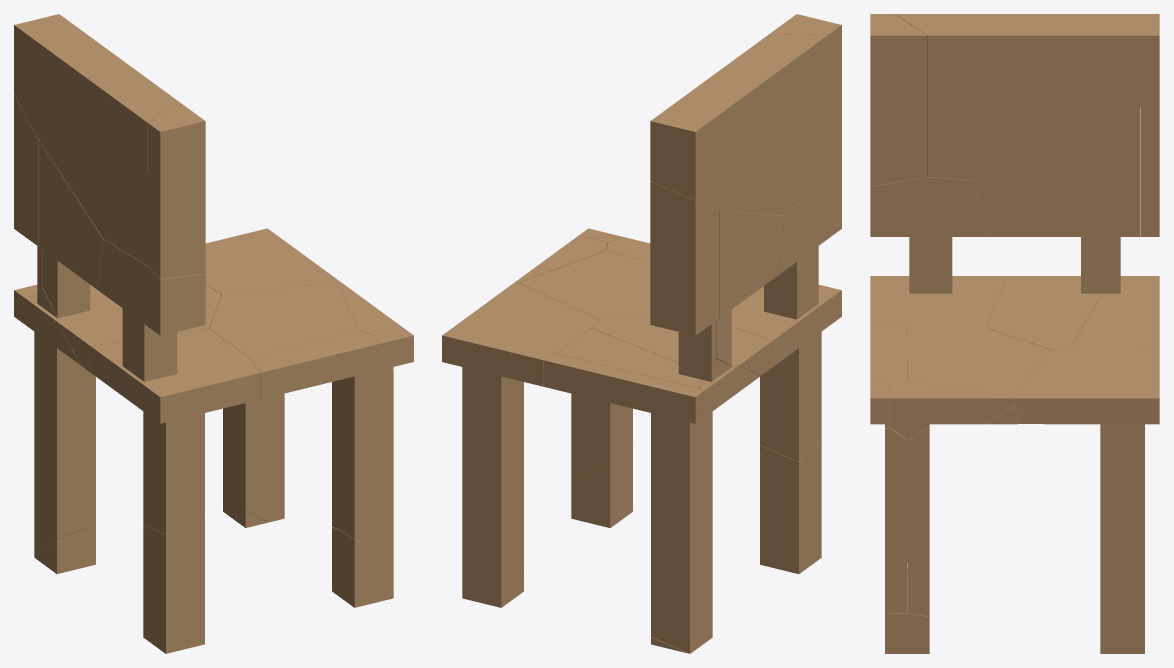
File: Broken Chair.fbx
3 views of the same model, side by side, from view 1: azimuth 30°, elevation 25°; view 2: azimuth 150°, elevation 25°; view 3: azimuth 270°, elevation 25° (orthographic).
Visible parts, largest first — view 1: Chair_cell, Chair_cell.009, Chair_cell.005, Chair_cell.010, Chair_cell.003, Chair_cell.008, Chair_cell.004, Chair_cell.002, Chair_cell.014, Chair_cell.007, Chair_cell.012, Chair_cell.015 (+3 smaller); view 2: Chair_cell.009, Chair_cell.003, Chair_cell, Chair_cell.010, Chair_cell.008, Chair_cell.002, Chair_cell.013, Chair_cell.014, Chair_cell.012, Chair_cell.006, Chair_cell.007, Chair_cell.004 (+3 smaller); view 3: Chair_cell.009, Chair_cell.003, Chair_cell.008, Chair_cell, Chair_cell.002, Chair_cell.004, Chair_cell.012, Chair_cell.005, Chair_cell.001, Chair_cell.013, Chair_cell.007, Chair_cell.006 (+1 smaller).
Part boxes in pixels (x1=…): Chair_cell: x1=88, y1=239, x2=260, y2=534; Chair_cell.009: x1=14, y1=14, x2=176, y2=265; Chair_cell.005: x1=249, y1=330, x2=393, y2=556; Chair_cell.010: x1=15, y1=287, x2=95, y2=556; Chair_cell.003: x1=205, y1=228, x2=340, y2=522; Chair_cell.008: x1=38, y1=139, x2=221, y2=370; Chair_cell.004: x1=148, y1=100, x2=205, y2=279; Chair_cell.002: x1=209, y1=283, x2=359, y2=531; Chair_cell.014: x1=143, y1=518, x2=204, y2=653; Chair_cell.007: x1=332, y1=527, x2=393, y2=607; Chair_cell.012: x1=24, y1=114, x2=207, y2=301; Chair_cell.015: x1=34, y1=524, x2=95, y2=573; Chair_cell.009: x1=650, y1=34, x2=829, y2=215; Chair_cell.003: x1=442, y1=282, x2=598, y2=607; Chair_cell: x1=731, y1=172, x2=841, y2=461; Chair_cell.010: x1=651, y1=359, x2=760, y2=653; Chair_cell.008: x1=592, y1=210, x2=784, y2=375; Chair_cell.002: x1=519, y1=251, x2=650, y2=480; Chair_cell.013: x1=650, y1=181, x2=705, y2=335; Chair_cell.014: x1=760, y1=439, x2=821, y2=573; Chair_cell.012: x1=556, y1=206, x2=719, y2=388; Chair_cell.006: x1=543, y1=354, x2=703, y2=450; Chair_cell.007: x1=571, y1=444, x2=632, y2=527; Chair_cell.004: x1=768, y1=14, x2=841, y2=176; Chair_cell.009: x1=895, y1=14, x2=1159, y2=179; Chair_cell.003: x1=1015, y1=348, x2=1159, y2=653; Chair_cell.008: x1=973, y1=129, x2=1101, y2=349; Chair_cell: x1=870, y1=177, x2=1007, y2=441; Chair_cell.002: x1=907, y1=327, x2=1049, y2=616; Chair_cell.004: x1=870, y1=14, x2=927, y2=186; Chair_cell.012: x1=1071, y1=108, x2=1139, y2=347; Chair_cell.005: x1=870, y1=324, x2=907, y2=613; Chair_cell.001: x1=890, y1=381, x2=1014, y2=440; Chair_cell.013: x1=1140, y1=95, x2=1159, y2=236; Chair_cell.007: x1=885, y1=568, x2=929, y2=653; Chair_cell.006: x1=1140, y1=276, x2=1159, y2=349.
Bounding box in the file's own units: 200 × 400 × 200.
